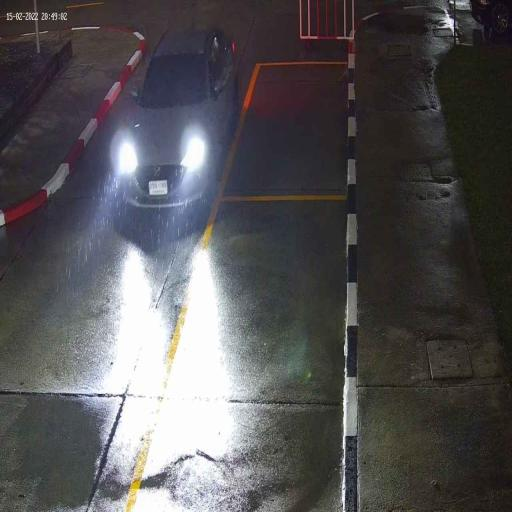car: (120, 18, 238, 212)
